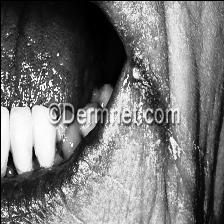Toxin: (128, 47, 164, 105), (155, 131, 187, 164)
